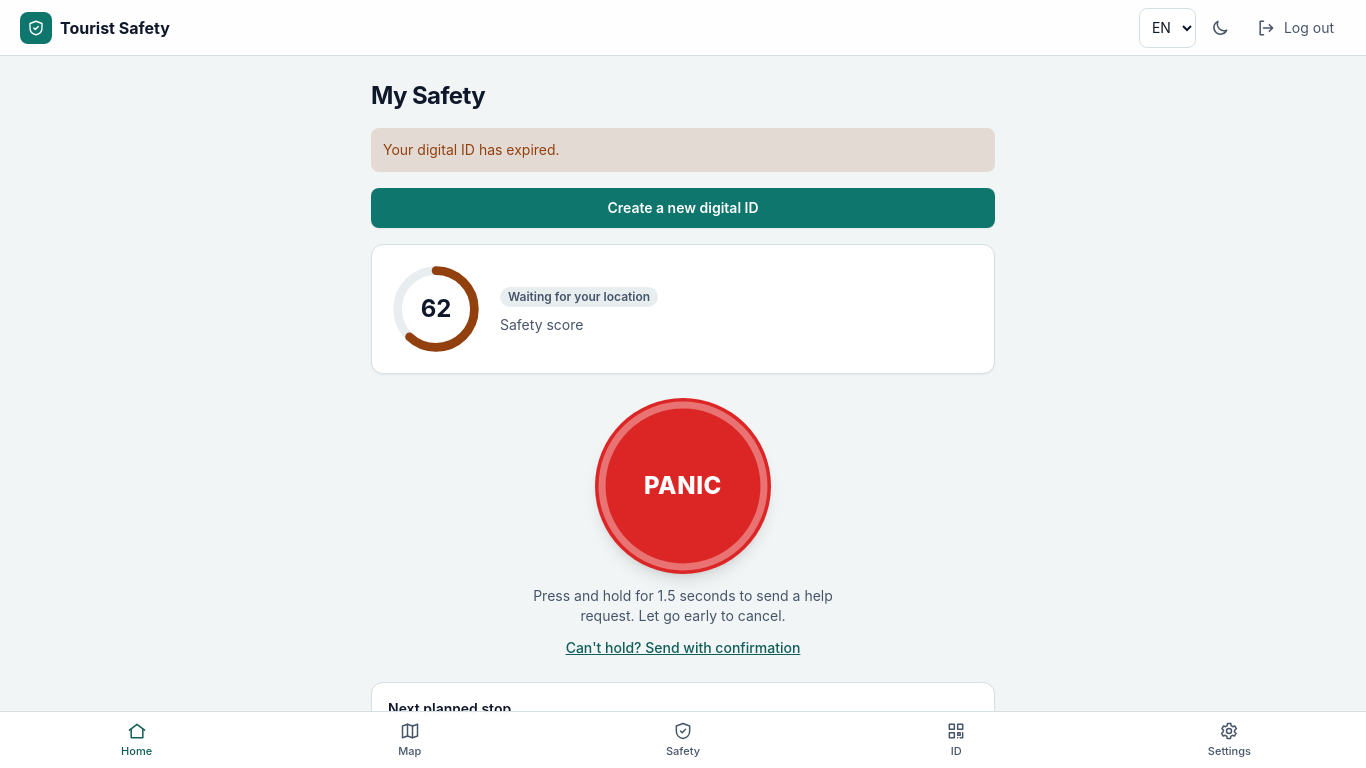
it: an expired ID is flagged and a new one can be created from the home screen
expect the text "Your digital ID has expired." is shown: met, box [371,128,995,172]
Click the button "Create a new digital ID" at (683, 208), box [371,188,995,228]
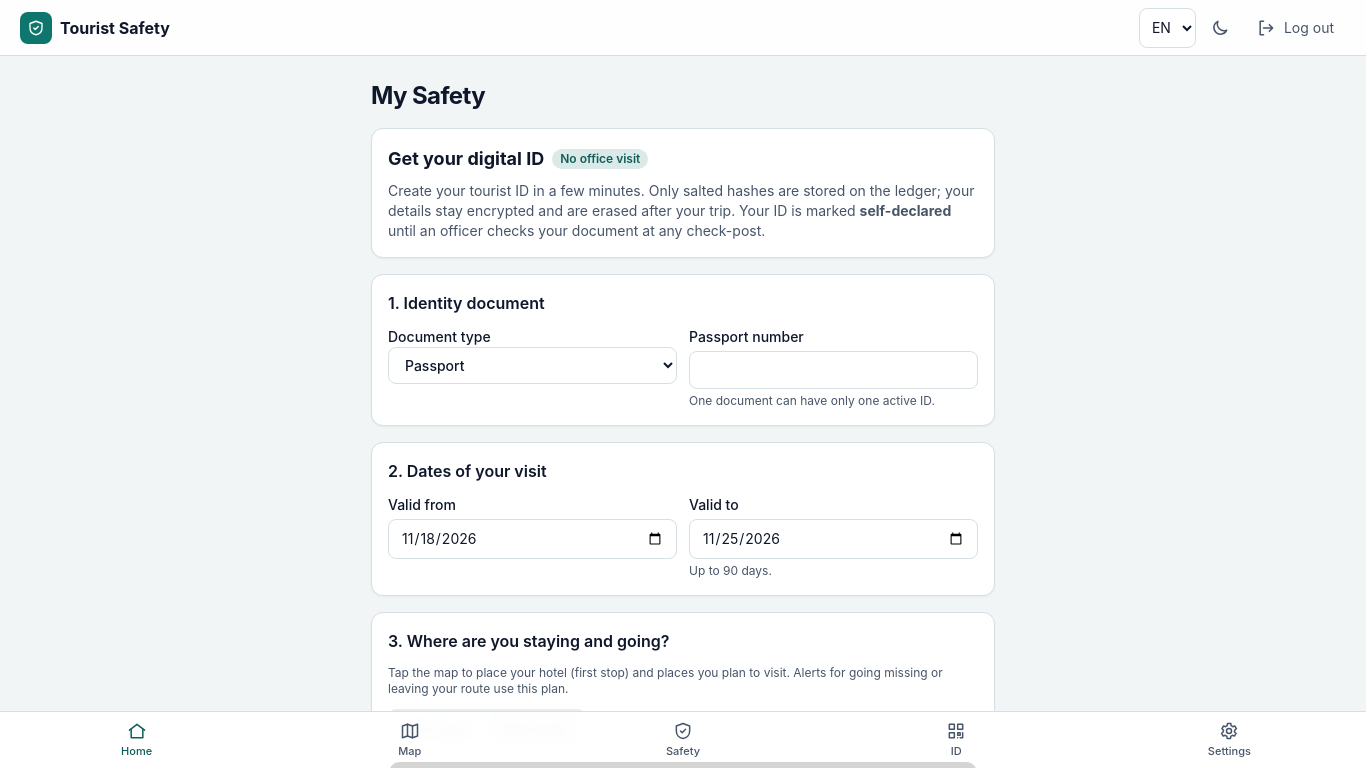
expect the heading "Get your digital ID" is shown: met, box [388,145,544,173]
